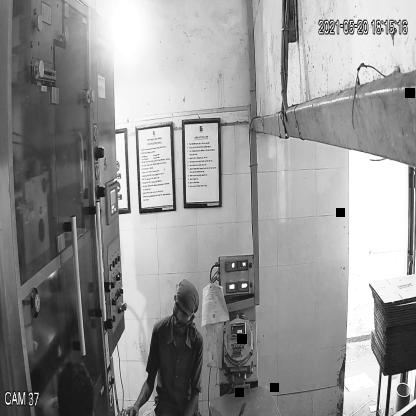goggles: (170, 296, 195, 327)
